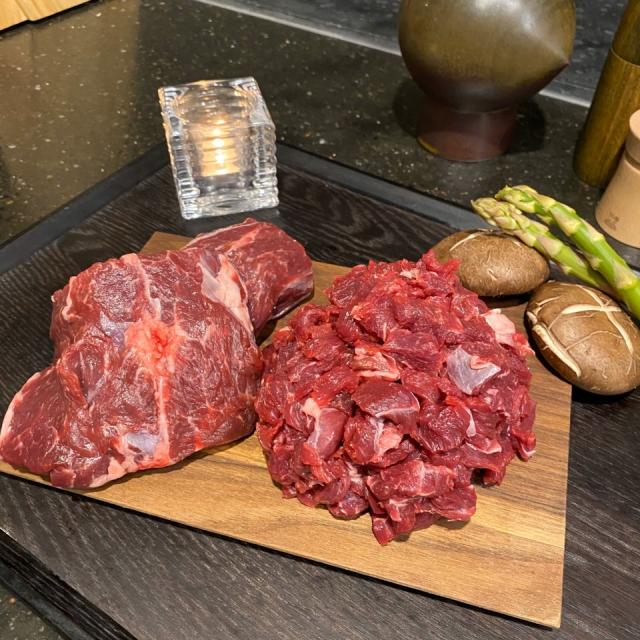beef: (339, 297, 478, 472), (109, 292, 244, 413)
